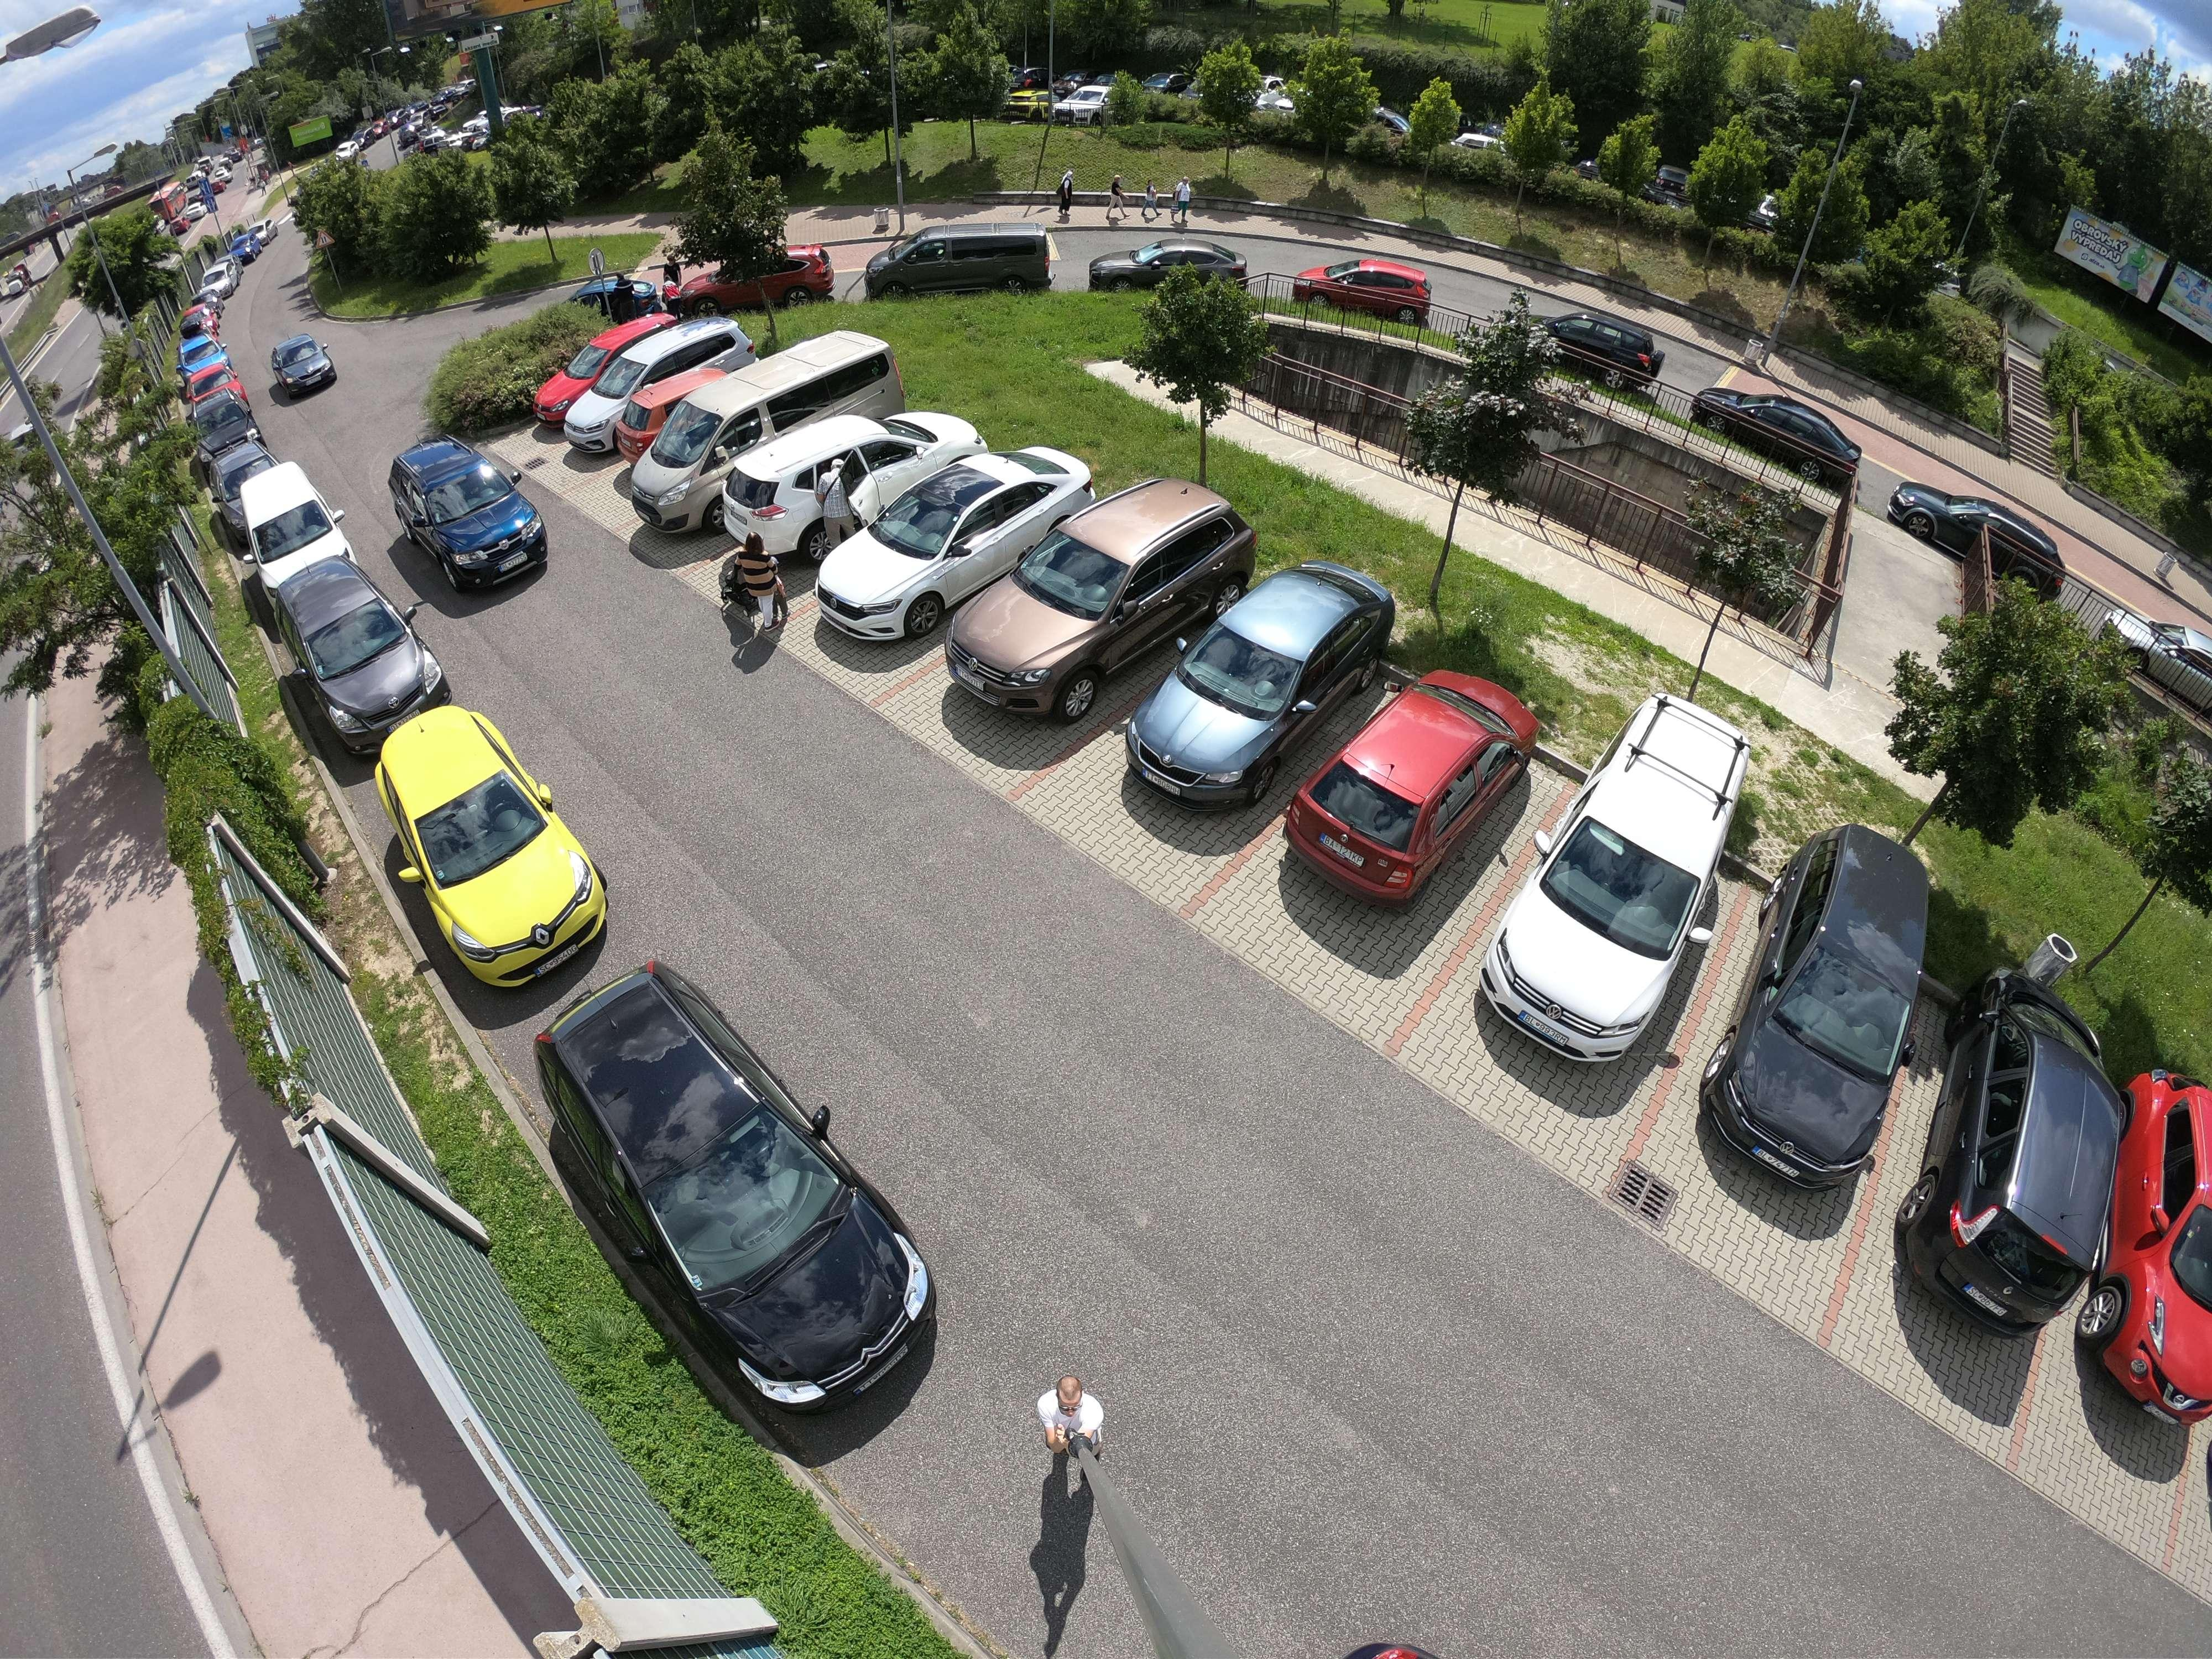empty: (536, 939, 946, 1403), (1491, 713, 1747, 1061), (1716, 821, 1949, 1195), (1928, 983, 2158, 1356), (380, 701, 618, 979), (1136, 566, 1397, 800), (963, 484, 1242, 702), (1285, 680, 1533, 899), (636, 331, 895, 511), (826, 458, 1083, 634), (2092, 1070, 2207, 1427), (728, 415, 963, 551), (387, 443, 557, 594), (557, 324, 759, 451), (298, 587, 446, 735), (1893, 484, 2062, 612), (1695, 382, 1860, 481), (866, 223, 1055, 303), (228, 455, 352, 559), (2114, 605, 2212, 711), (1291, 261, 1446, 326), (1538, 312, 1663, 385), (1092, 235, 1254, 288), (272, 335, 345, 397)
